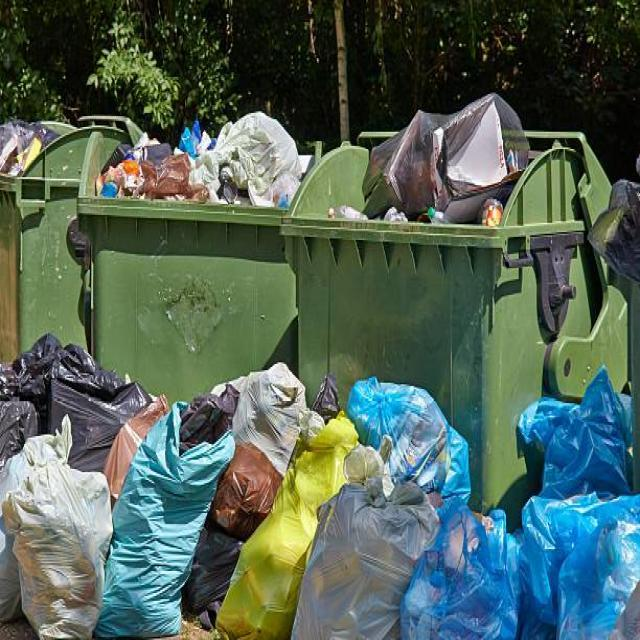garbage: (362, 78, 530, 240), (121, 400, 231, 640), (2, 426, 116, 638), (404, 494, 532, 640), (523, 483, 640, 640), (346, 364, 473, 504), (305, 477, 405, 640), (30, 330, 140, 462), (199, 99, 315, 223), (520, 367, 638, 486), (232, 351, 313, 477), (104, 130, 200, 212), (0, 111, 56, 186)
